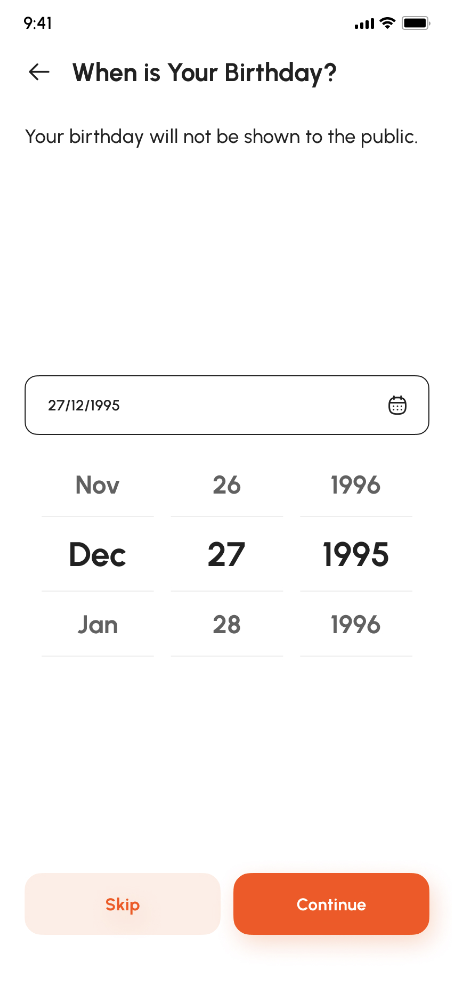AppBar: (1, 33, 452, 91)
Button: (23, 870, 224, 937), (232, 871, 430, 937)
IconButton: (26, 57, 52, 84)
Input: (21, 370, 432, 439)
